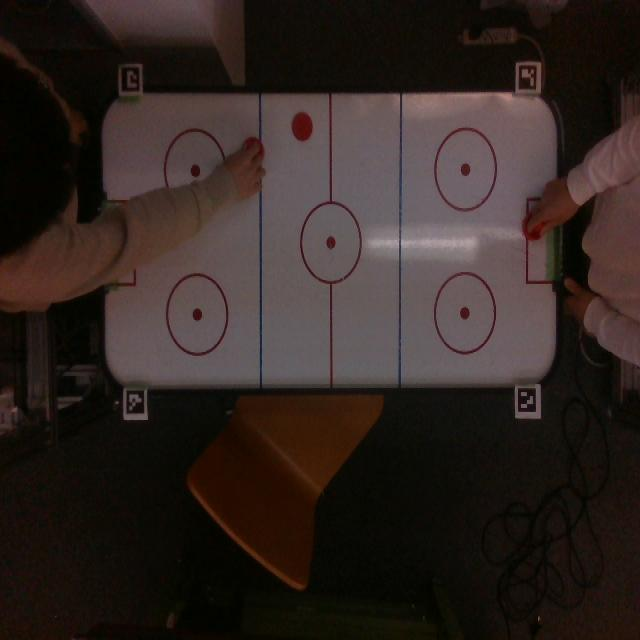puck: (292, 113, 312, 141)
